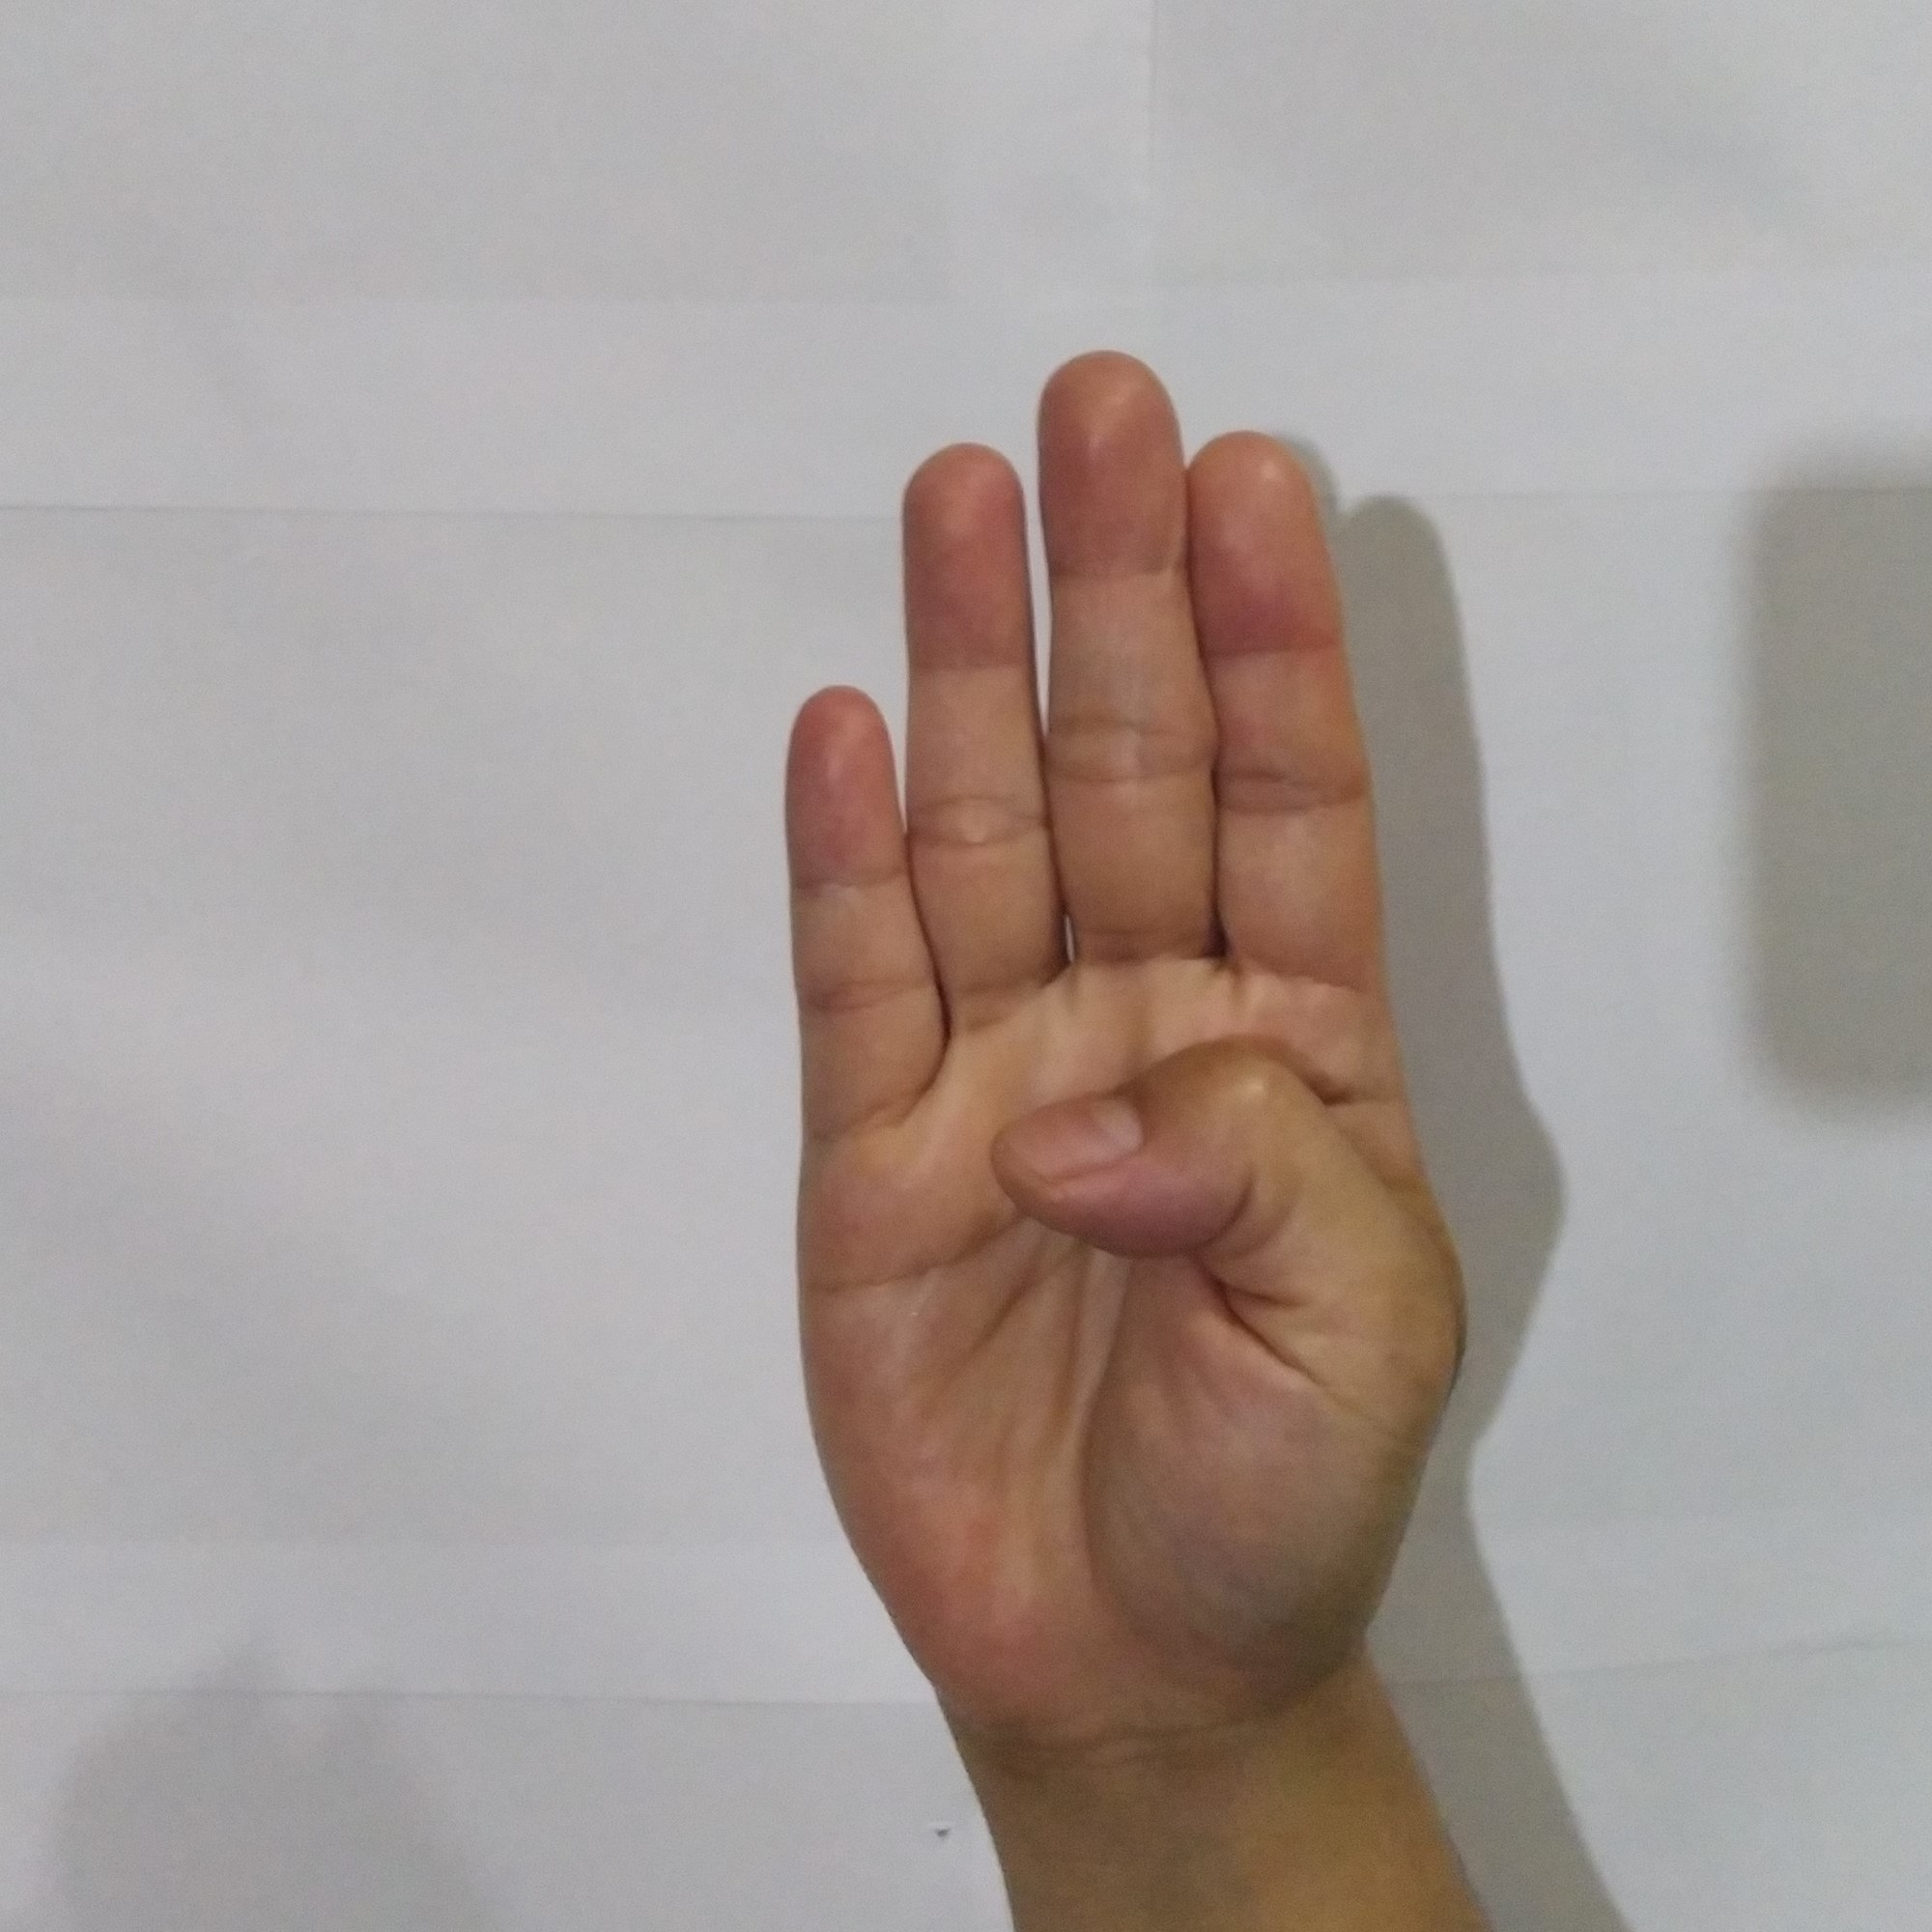B: (745, 322, 1495, 1723)
